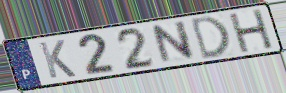2: (116, 26, 157, 71), (79, 32, 119, 78)
D: (189, 14, 232, 62)
H: (226, 7, 276, 55)
K: (36, 38, 78, 80)
N: (150, 19, 198, 66)
